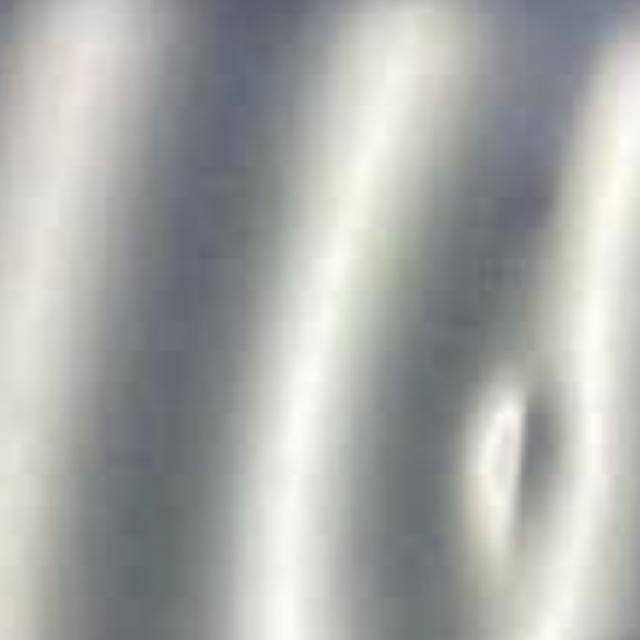dents: (469, 354, 640, 603)
